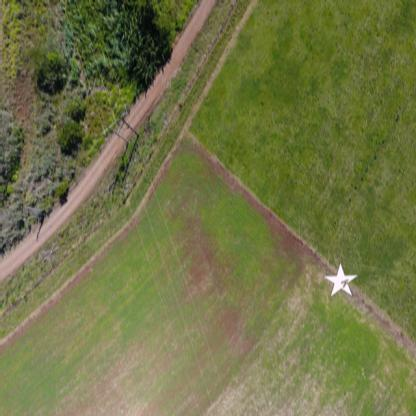K: (340, 277, 352, 289)
star: (324, 261, 360, 299)
